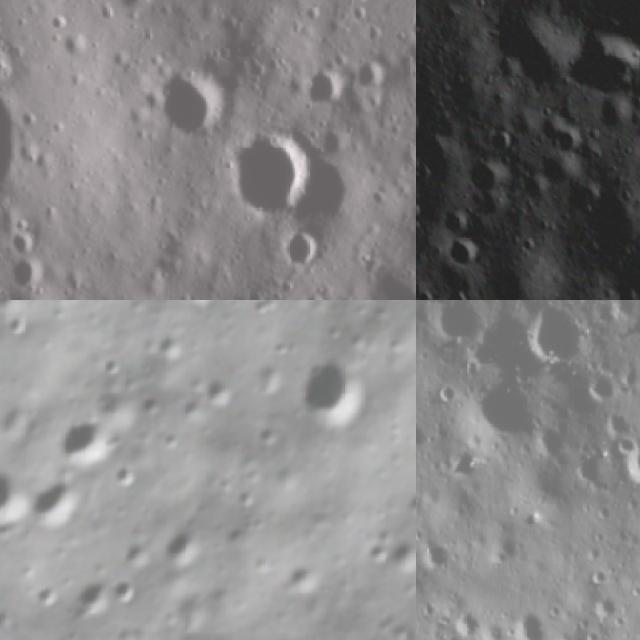crater: (277, 340, 388, 453), (44, 388, 139, 490), (230, 124, 325, 222), (154, 65, 232, 156), (19, 462, 103, 542), (463, 377, 543, 453), (529, 300, 603, 370), (465, 312, 538, 378), (566, 34, 640, 92), (0, 92, 21, 245), (370, 525, 416, 584), (298, 63, 354, 109), (274, 228, 326, 276), (434, 300, 488, 345), (0, 466, 35, 535), (362, 259, 416, 300), (5, 256, 48, 296), (504, 600, 547, 640), (416, 130, 451, 178), (350, 54, 388, 96), (444, 237, 481, 280), (0, 25, 22, 97), (588, 584, 622, 630), (103, 42, 141, 81), (416, 536, 454, 574), (584, 369, 622, 404), (57, 30, 95, 64), (622, 435, 640, 494), (467, 164, 503, 192), (4, 230, 39, 256), (442, 208, 472, 235), (487, 122, 509, 158), (298, 3, 328, 27), (111, 0, 158, 15), (550, 130, 578, 154), (448, 285, 471, 300), (416, 288, 441, 300), (614, 289, 636, 300)
